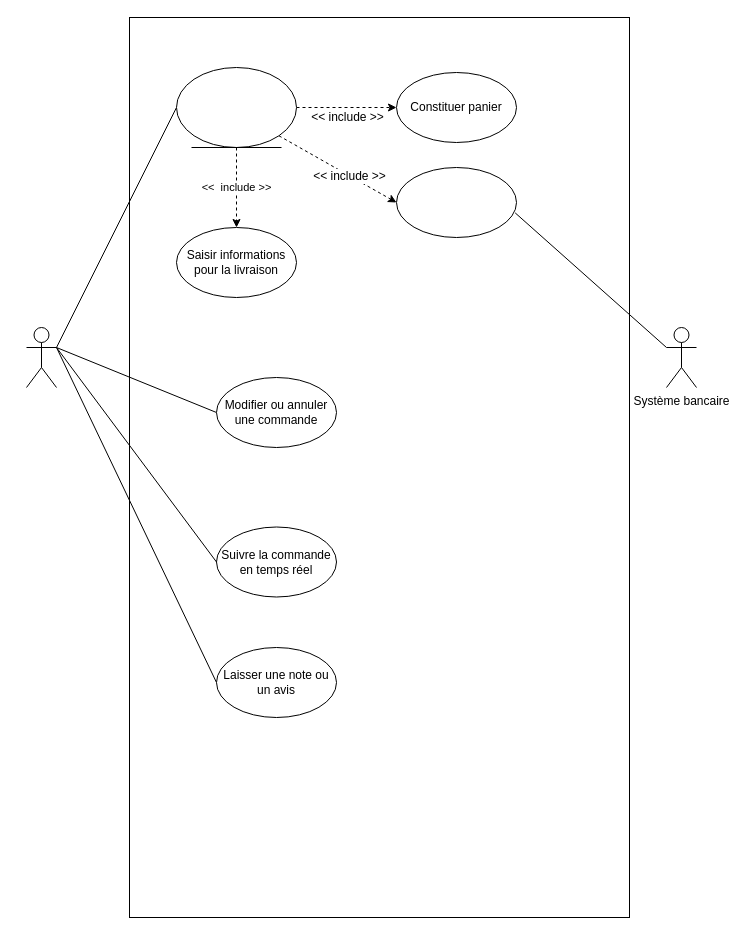
The diagram is 747 pixels wide and 935 high, and some of its shapes have lost their labels. The box of each missing label's shape, as (x1, y1, x2, y2) in pixels:
Acheteur: (26, 326, 56, 388)
Enregistrer règlement: (396, 166, 516, 238)
Enregistrer une commande: (176, 66, 296, 148)
